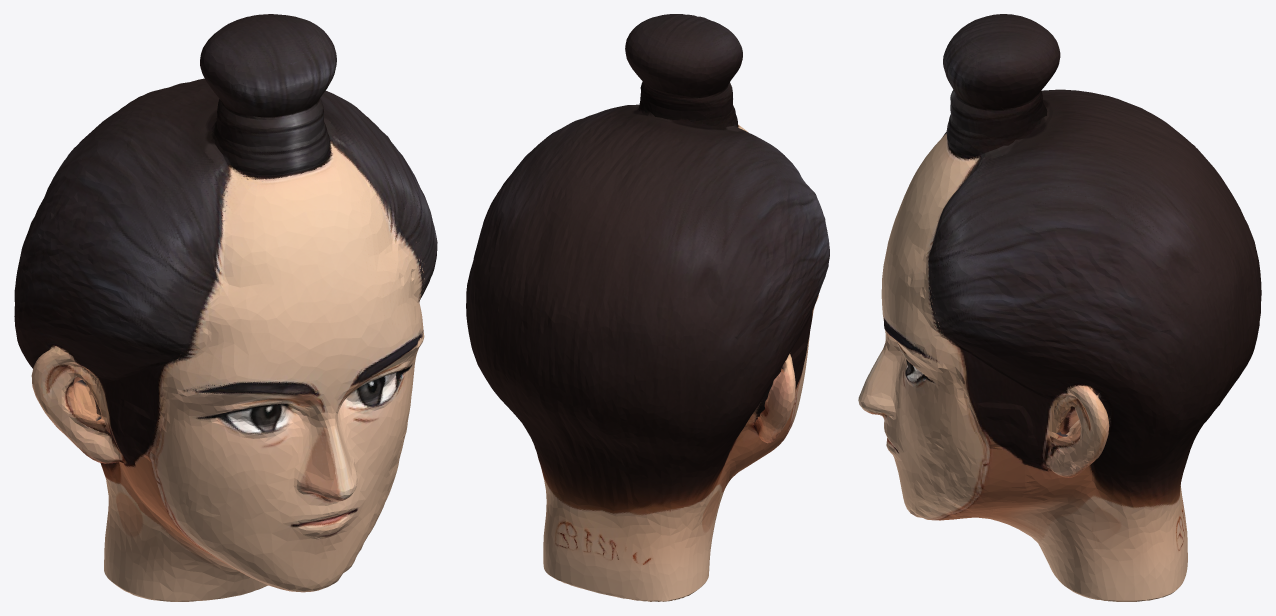
Rendered from side_censorclerk_repaired_atlas.glb.
3 views of the same model, side by side, from view 1: azimuth 30°, elevation 25°; view 2: azimuth 150°, elevation 25°; view 3: azimuth 270°, elevation 25° (orthographic). The views are drawn at different scales.
Visible parts, largest first — view 1: temp_mesh.ply; view 2: temp_mesh.ply; view 3: temp_mesh.ply.
Boxes of the visible parts, x1,y1,x2,y2 form: temp_mesh.ply: (14, 14, 437, 601); temp_mesh.ply: (466, 14, 829, 601); temp_mesh.ply: (858, 14, 1261, 601).
Size of the model in its own units: 0.8507 by 1.33 by 0.8949.
1 material, 1 textured.
